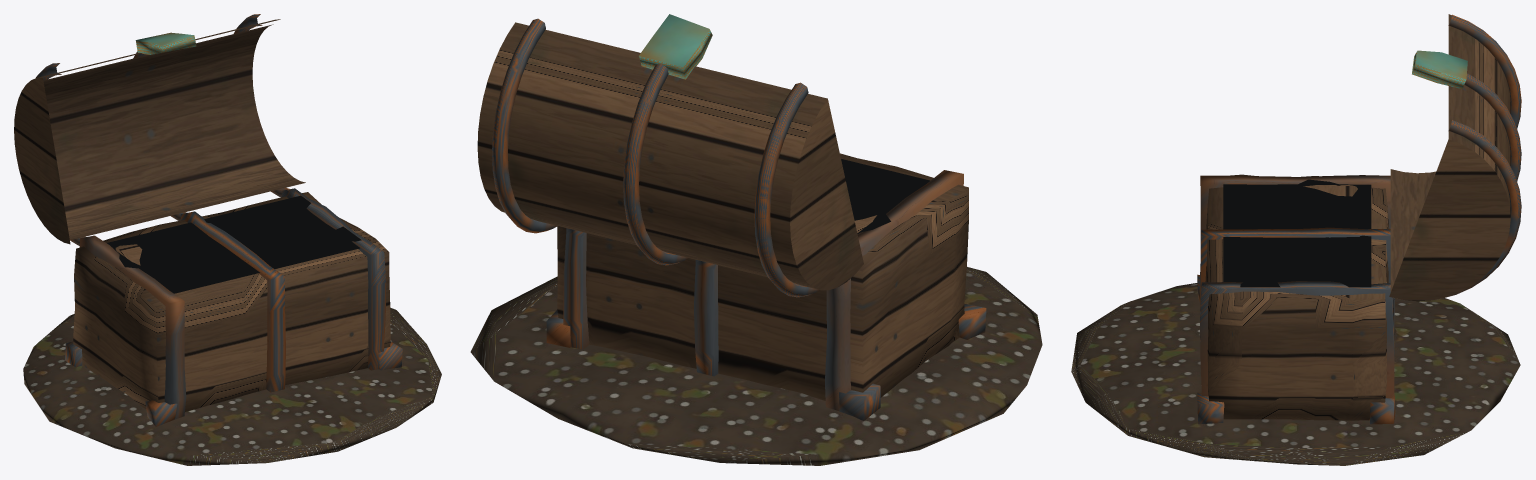
Rendered from sealed_treasure_chest_open.glb.
The picture shows the model from 3 angles, left to right: view 1: azimuth 30°, elevation 25°; view 2: azimuth 150°, elevation 25°; view 3: azimuth 270°, elevation 25°; orthographic projection. The views are drawn at different scales.
Parts seen in each view (by area): view 1: sealed_treasure_chest_open__wood, sealed_treasure_chest_open__wood_dark, sealed_treasure_chest_open__soil, sealed_treasure_chest_open__iron, sealed_treasure_chest_open__dark_void, sealed_treasure_chest_open__bronze; view 2: sealed_treasure_chest_open__wood, sealed_treasure_chest_open__soil, sealed_treasure_chest_open__iron, sealed_treasure_chest_open__dark_void, sealed_treasure_chest_open__bronze; view 3: sealed_treasure_chest_open__wood, sealed_treasure_chest_open__soil, sealed_treasure_chest_open__iron, sealed_treasure_chest_open__dark_void, sealed_treasure_chest_open__wood_dark, sealed_treasure_chest_open__bronze.
Boxes of the visible parts, box(x1,y1,x2,y2) form: sealed_treasure_chest_open__wood: box(14, 19, 390, 411); sealed_treasure_chest_open__wood_dark: box(43, 24, 305, 239); sealed_treasure_chest_open__soil: box(23, 307, 441, 465); sealed_treasure_chest_open__iron: box(36, 14, 402, 426); sealed_treasure_chest_open__dark_void: box(107, 195, 361, 293); sealed_treasure_chest_open__bronze: box(135, 32, 196, 54); sealed_treasure_chest_open__wood: box(477, 22, 968, 400); sealed_treasure_chest_open__soil: box(470, 267, 1042, 465); sealed_treasure_chest_open__iron: box(492, 18, 986, 420); sealed_treasure_chest_open__dark_void: box(841, 159, 929, 233); sealed_treasure_chest_open__bronze: box(639, 14, 712, 79); sealed_treasure_chest_open__wood: box(1205, 14, 1510, 420); sealed_treasure_chest_open__soil: box(1071, 283, 1520, 465); sealed_treasure_chest_open__iron: box(1197, 14, 1521, 424); sealed_treasure_chest_open__dark_void: box(1223, 179, 1371, 287); sealed_treasure_chest_open__wood_dark: box(1390, 169, 1436, 291); sealed_treasure_chest_open__bronze: box(1412, 50, 1467, 88).
Size of the model in its own units: 1.55 by 1.19 by 1.52.
6 materials, 5 textured.
